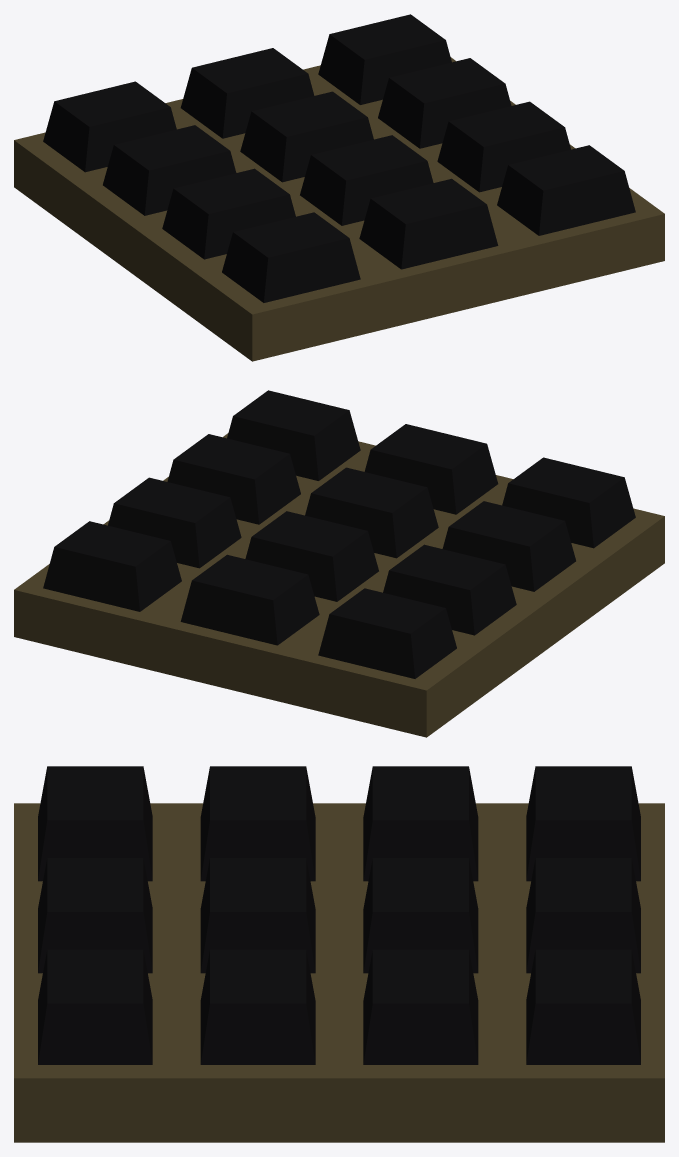
File: Buttons.obj
The picture shows the model from 3 angles, top to bottom: view 1: azimuth 30°, elevation 25°; view 2: azimuth 150°, elevation 25°; view 3: azimuth 270°, elevation 25°; orthographic projection. The views are drawn at different scales.
Visible parts, largest first — view 1: Cube; view 2: Cube; view 3: Cube.
Boxes of the visible parts, x1,y1,x2,y2 form: Cube: [14, 14, 664, 361]; Cube: [14, 390, 664, 737]; Cube: [14, 766, 664, 1142].
Bounding box in the file's own units: 2 × 0.4076 × 2.
